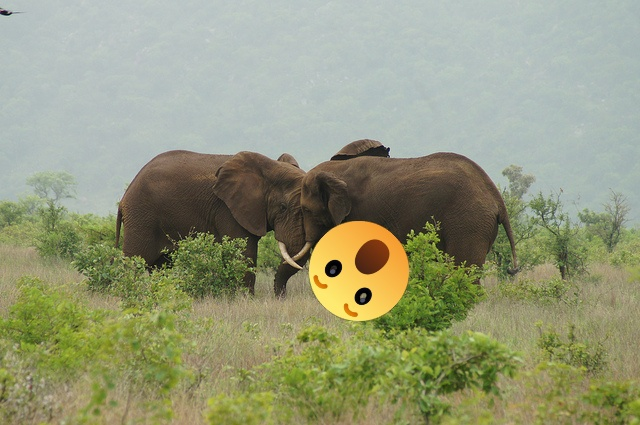wow: (309, 221, 409, 321)
